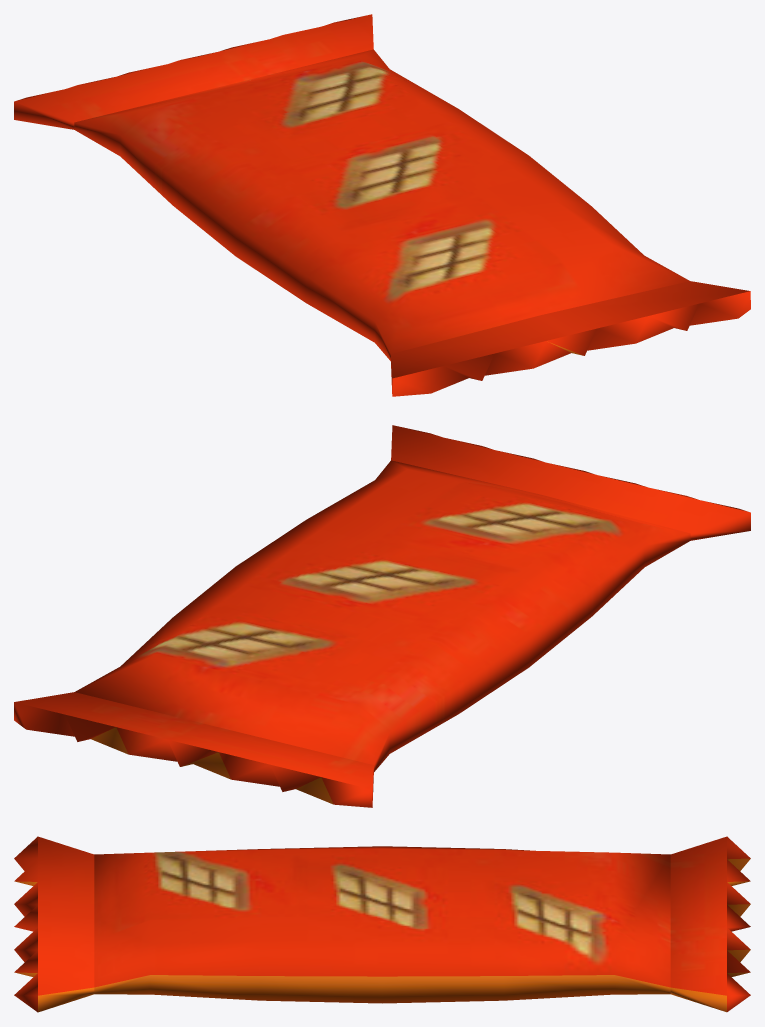
The picture shows the model from 3 angles, top to bottom: view 1: azimuth 30°, elevation 25°; view 2: azimuth 150°, elevation 25°; view 3: azimuth 270°, elevation 25°; orthographic projection. The views are drawn at different scales.
Visible parts, largest first — view 1: 2-4; view 2: 2-4; view 3: 2-4.
Boxes of the visible parts, x1,y1,x2,y2 form: 2-4: [14, 14, 750, 396]; 2-4: [14, 425, 750, 807]; 2-4: [14, 836, 750, 1012].
Bounding box in the file's own units: 6.75 × 0.8665 × 13.18.
